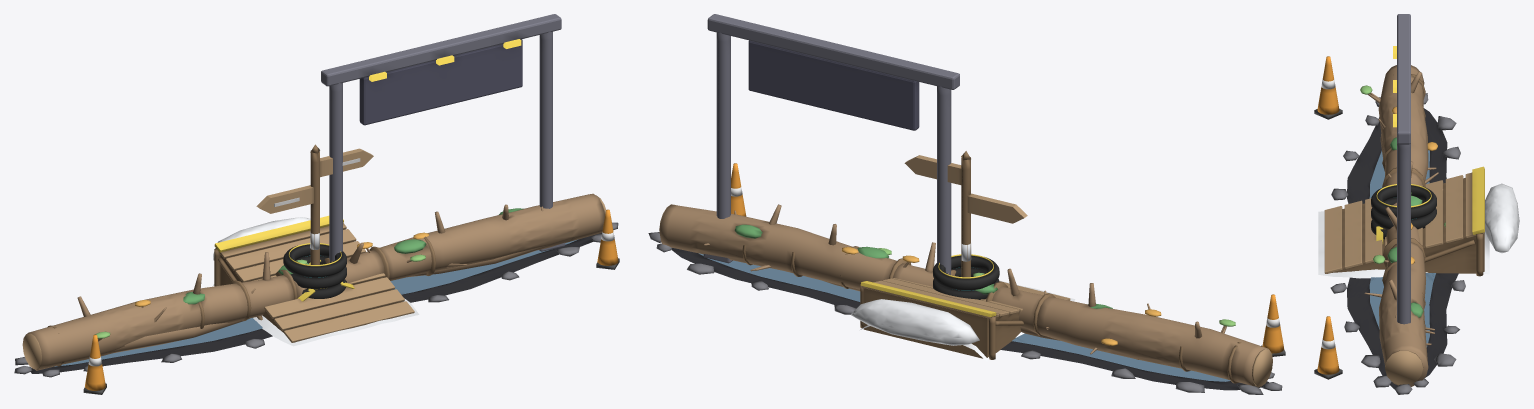
Rendered from bike-jumps.glb.
3 views of the same model, side by side, from view 1: azimuth 30°, elevation 25°; view 2: azimuth 150°, elevation 25°; view 3: azimuth 270°, elevation 25° (orthographic). The views are drawn at different scales.
Parts seen in each view (by area): view 1: HzLog, PitGantry, HzRamp, HzTrench, PrSignpost, PitRack, HzBranch, HzDriftRamp; view 2: HzLog, PitGantry, HzTrench, HzRamp, HzDriftRamp, PrSignpost, PitRack, HzBranch; view 3: HzTrench, HzRamp, HzLog, PitGantry, HzDriftRamp, PitRack, HzBranch.
Boxes of the visible parts, bbox=[...] form: HzLog: bbox=[22, 193, 605, 369]; PitGantry: bbox=[321, 14, 565, 262]; HzRamp: bbox=[214, 215, 414, 342]; HzTrench: bbox=[14, 209, 619, 394]; PrSignpost: bbox=[256, 144, 373, 264]; PitRack: bbox=[283, 232, 346, 298]; HzBranch: bbox=[35, 206, 551, 370]; HzDriftRamp: bbox=[213, 217, 419, 346]; HzLog: bbox=[659, 204, 1272, 386]; PitGantry: bbox=[703, 14, 959, 274]; HzTrench: bbox=[648, 163, 1285, 394]; HzRamp: bbox=[860, 278, 1070, 359]; HzDriftRamp: bbox=[850, 280, 1075, 361]; PrSignpost: bbox=[904, 151, 1027, 277]; PitRack: bbox=[933, 243, 999, 299]; HzBranch: bbox=[704, 210, 1259, 387]; HzTrench: bbox=[1314, 56, 1465, 394]; HzRamp: bbox=[1324, 166, 1484, 276]; HzLog: bbox=[1378, 65, 1428, 386]; PitGantry: bbox=[1393, 14, 1410, 324]; HzDriftRamp: bbox=[1318, 183, 1519, 278]; PitRack: bbox=[1371, 184, 1436, 239]; HzBranch: bbox=[1360, 85, 1445, 345].
Size of the model in its own units: 7.19 by 2.61 by 2.04.
